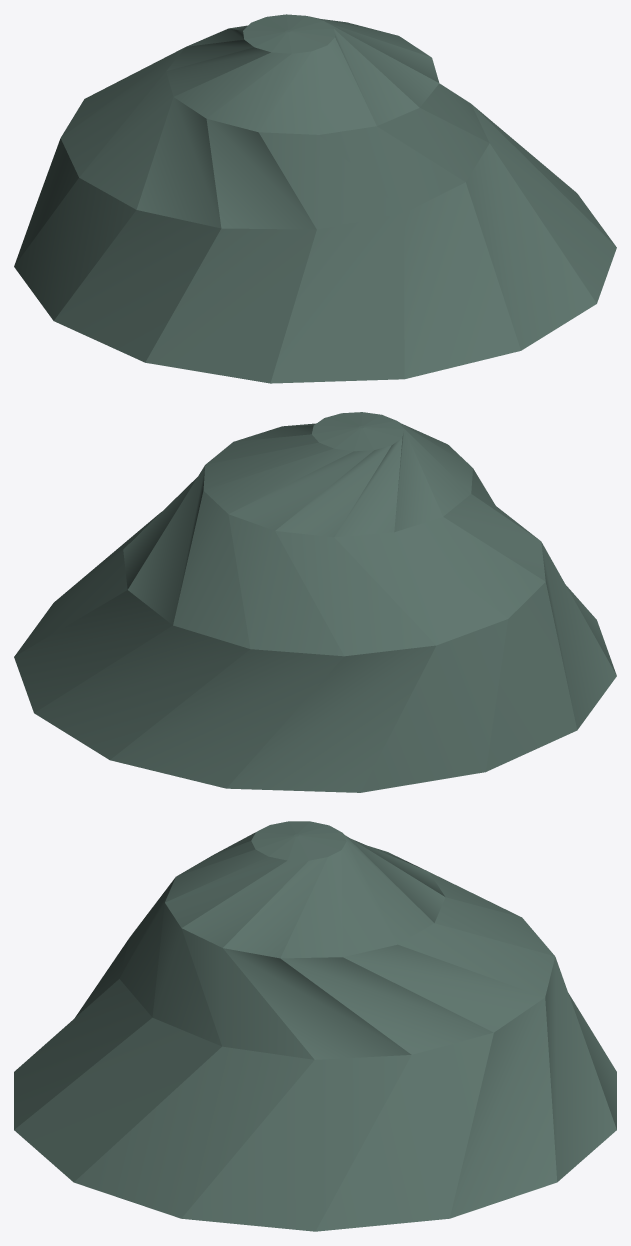
Rendered from preRock1.fbx.
3 renders of one model, top to bottom at view 1: azimuth 30°, elevation 25°; view 2: azimuth 150°, elevation 25°; view 3: azimuth 270°, elevation 25°, orthographic. The views are drawn at different scales.
Visible parts, largest first — view 1: Model; view 2: Model; view 3: Model.
Boxes of the visible parts, box(x1,y1,x2,y2) form: Model: box(14, 14, 616, 383); Model: box(14, 412, 616, 792); Model: box(14, 821, 616, 1231).
Size of the model in its own units: 282 by 124 by 275.
